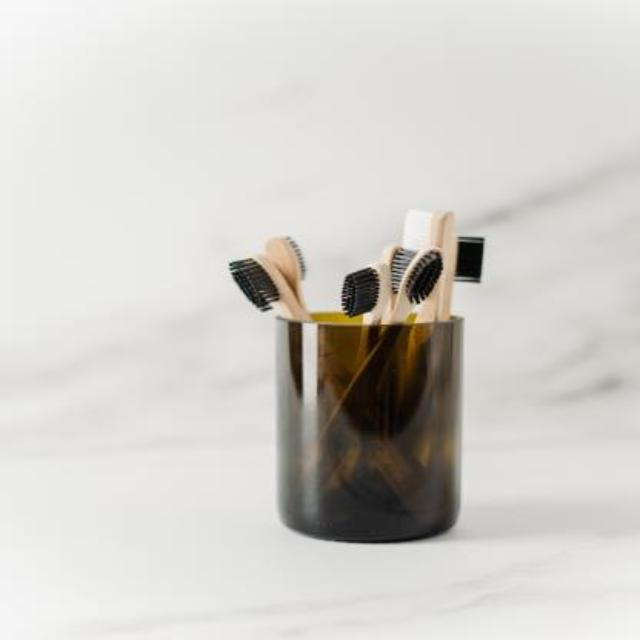toothbrush: (393, 198, 471, 318), (220, 243, 314, 327), (376, 236, 440, 324), (256, 228, 316, 308), (334, 254, 386, 326)
